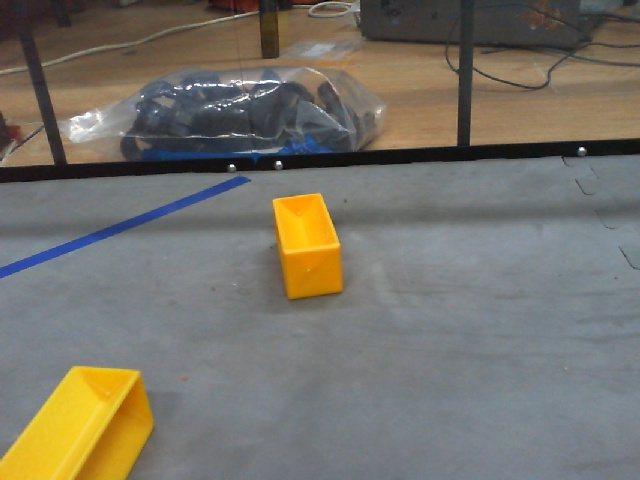YellowSample: (1, 362, 156, 480), (265, 188, 353, 302)
